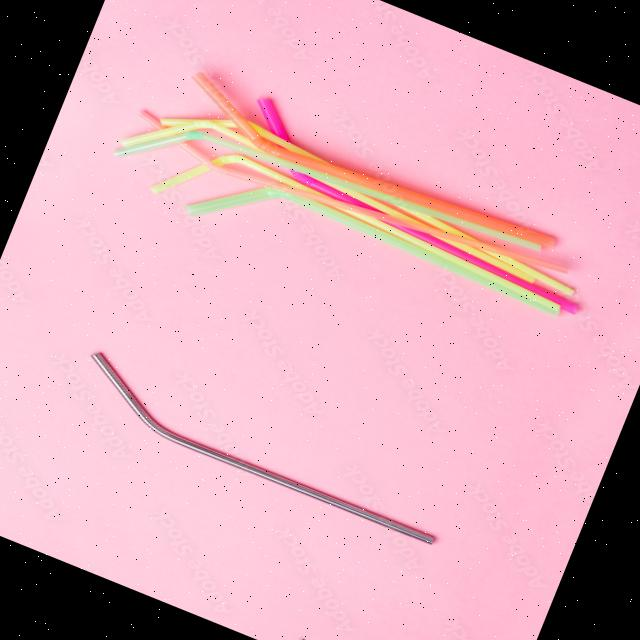plastic: (167, 49, 578, 272)
